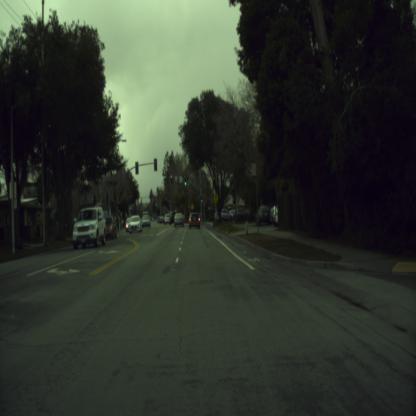Green: (184, 176, 186, 185), (201, 196, 202, 202), (155, 201, 156, 205)
RedLeft: (118, 200, 120, 209), (170, 175, 172, 183)
